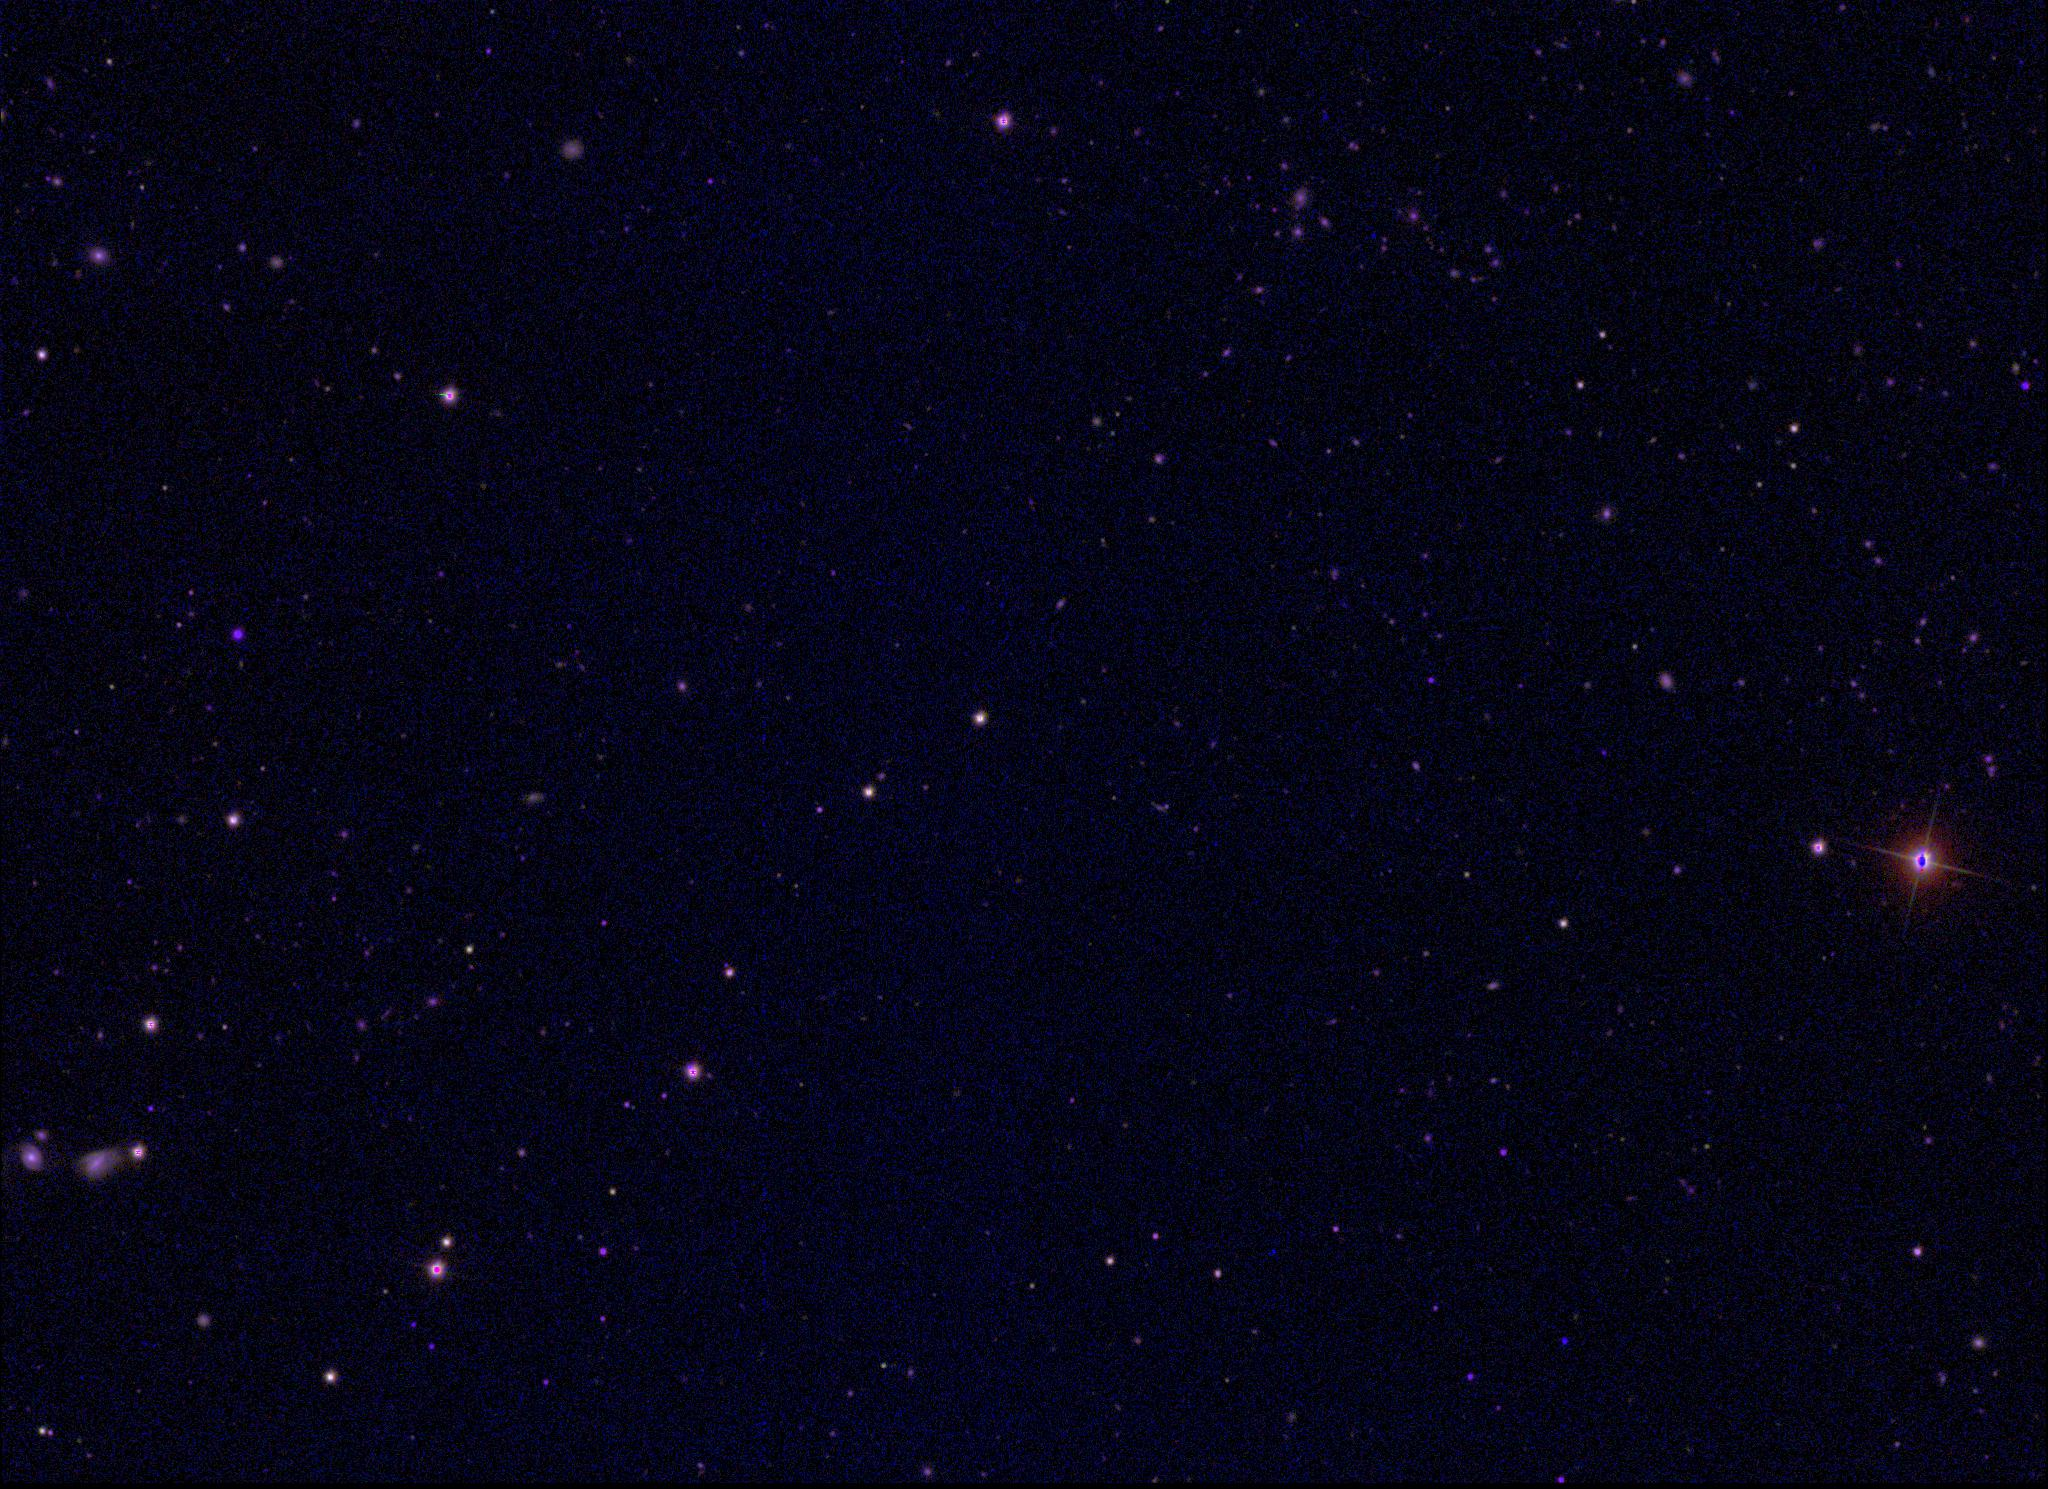L: (1558, 1335, 1573, 1347)
